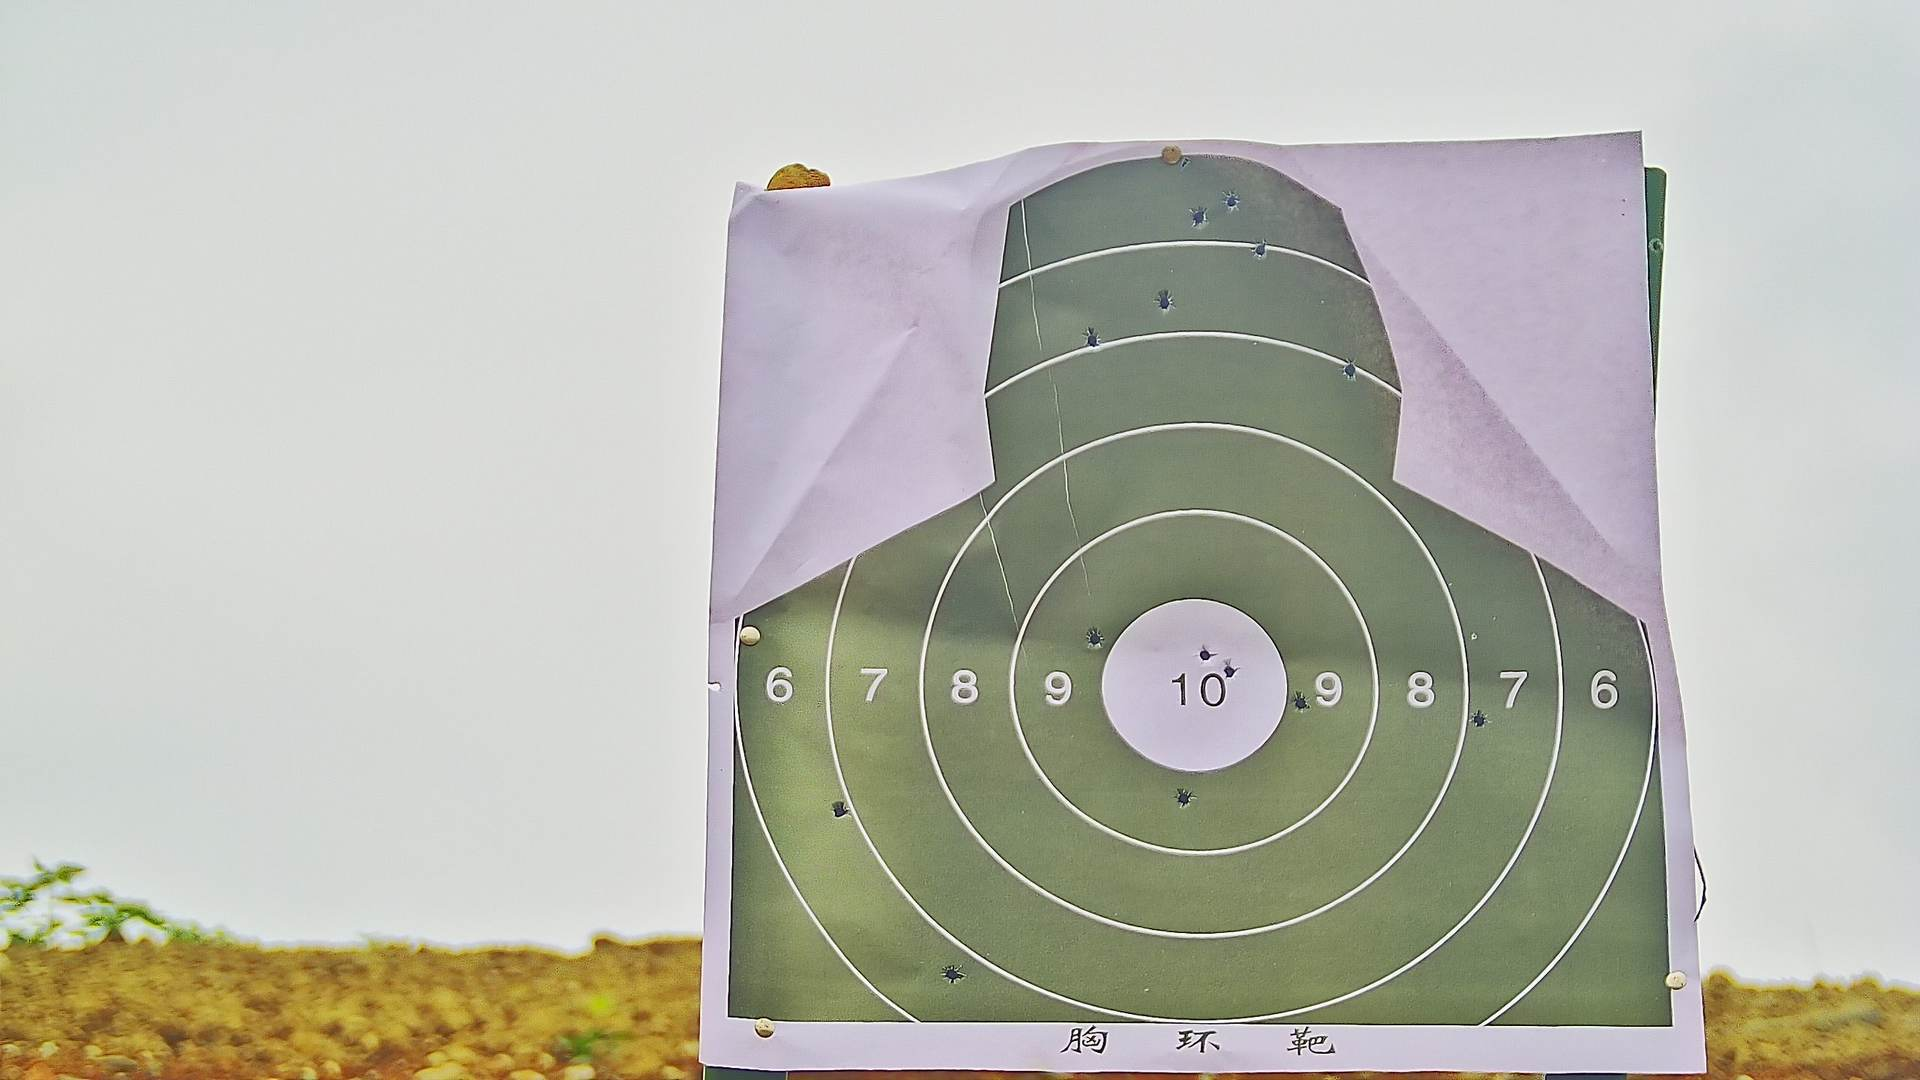hole: (1085, 630, 1102, 647), (1188, 211, 1207, 227), (1158, 291, 1172, 309), (832, 800, 849, 815), (1178, 790, 1193, 804), (943, 964, 957, 980), (1255, 240, 1267, 258), (1294, 692, 1305, 709), (1473, 709, 1485, 727), (1342, 363, 1356, 377), (1087, 330, 1098, 345), (1225, 195, 1238, 208), (1197, 647, 1212, 659), (1222, 665, 1236, 676)
kernel: (1189, 692, 1197, 698)
target: (725, 157, 1677, 1030)
ten: (1102, 597, 1286, 773)
